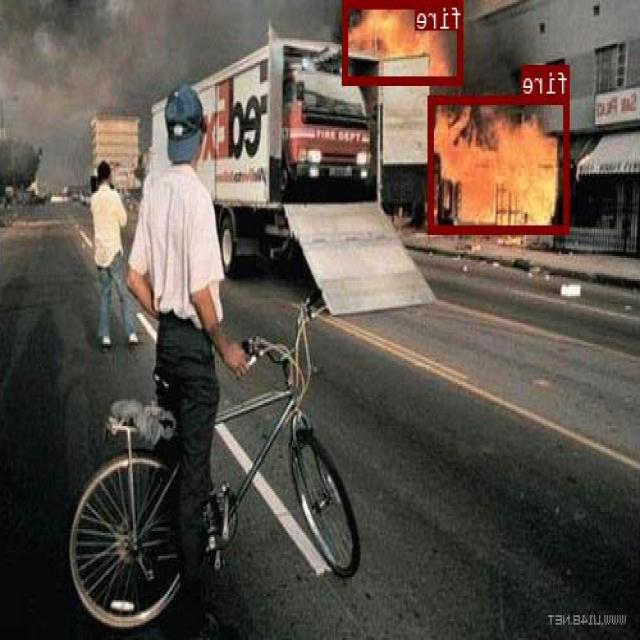fire: (430, 95, 571, 232), (344, 0, 464, 82)
